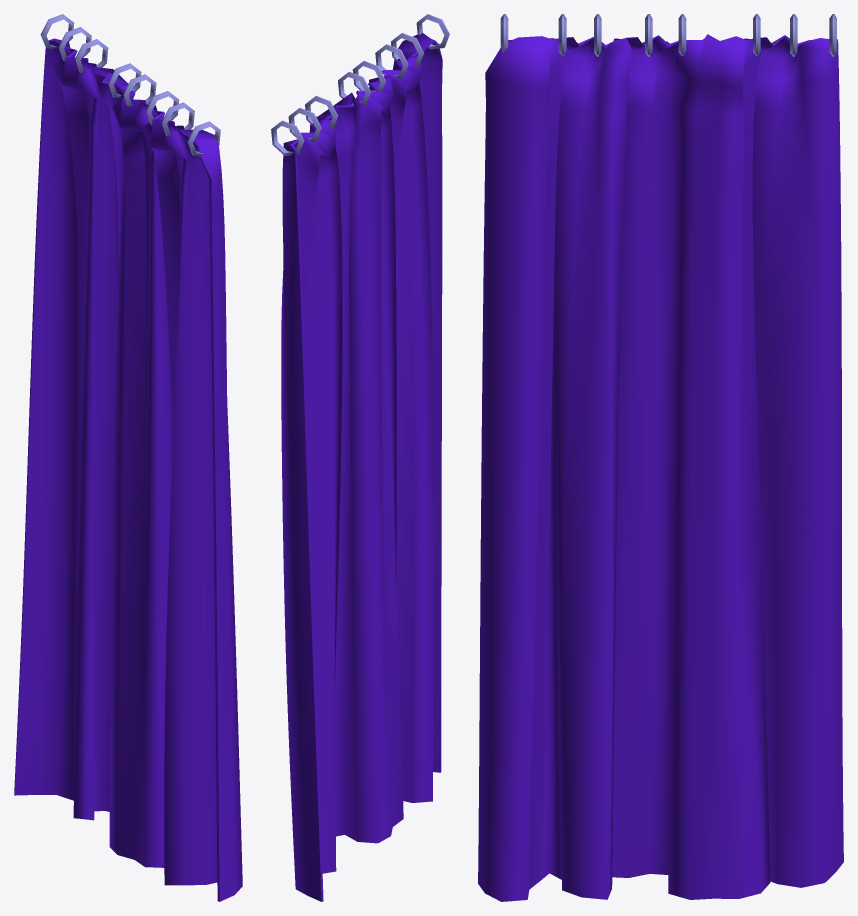
File: curtain single.FBX
3 views of the same model, side by side, from view 1: azimuth 30°, elevation 25°; view 2: azimuth 150°, elevation 25°; view 3: azimuth 270°, elevation 25° (orthographic). The views are drawn at different scales.
Parts seen in each view (by area): view 1: curtain single; view 2: curtain single; view 3: curtain single.
Boxes of the visible parts, x1,y1,x2,y2 form: curtain single: (14, 14, 242, 901); curtain single: (271, 14, 449, 901); curtain single: (478, 14, 843, 901).
Size of the model in its own units: 0.3261 by 3.15 by 1.2.
